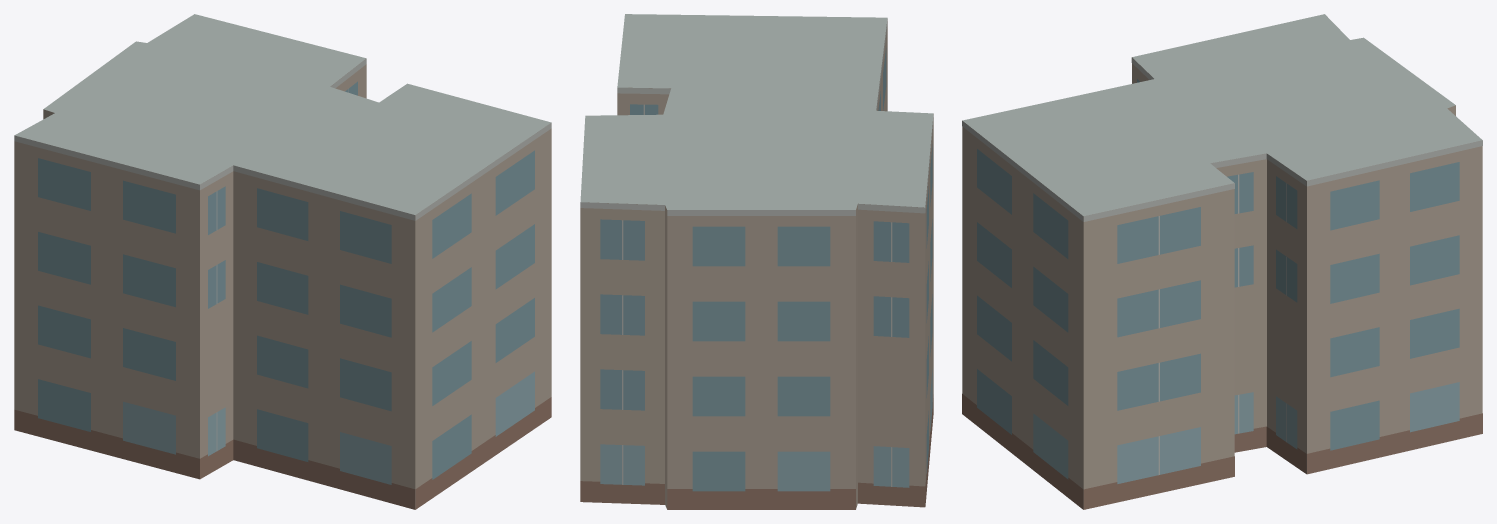
Rendered from survey-upis-32524420.glb.
3 renders of one model, left to right at view 1: azimuth 30°, elevation 25°; view 2: azimuth 150°, elevation 25°; view 3: azimuth 270°, elevation 25°, orthographic. The views are drawn at different scales.
Visible parts, largest first — view 1: survey-upis-32524420.tmp; view 2: survey-upis-32524420.tmp; view 3: survey-upis-32524420.tmp.
Boxes of the visible parts, box(x1,y1,x2,y2) form: survey-upis-32524420.tmp: box(14, 14, 551, 509); survey-upis-32524420.tmp: box(580, 14, 933, 509); survey-upis-32524420.tmp: box(962, 14, 1482, 509).
Size of the model in its own units: 18.34 by 12.4 by 19.94.
